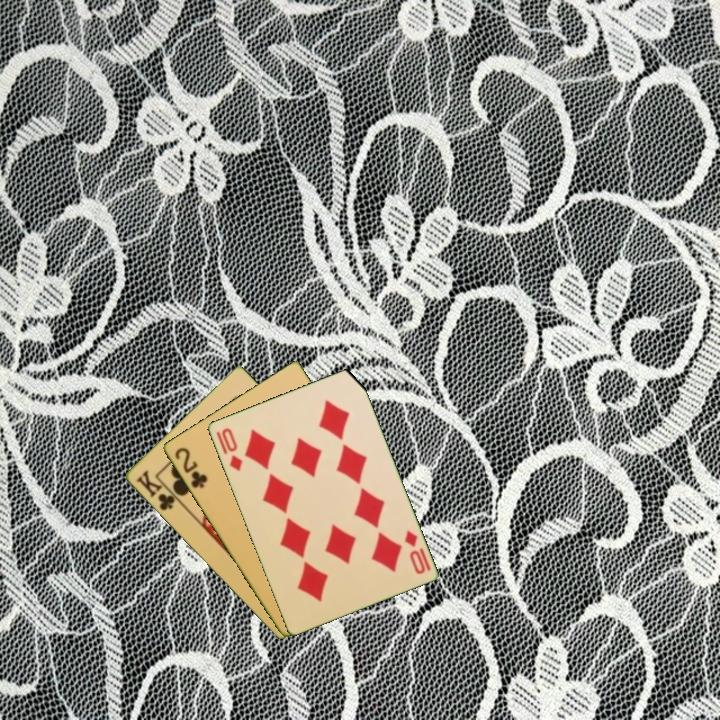10d: (400, 526, 433, 577), (212, 424, 245, 474)
2c: (171, 444, 210, 491)
Kc: (132, 466, 183, 514)
